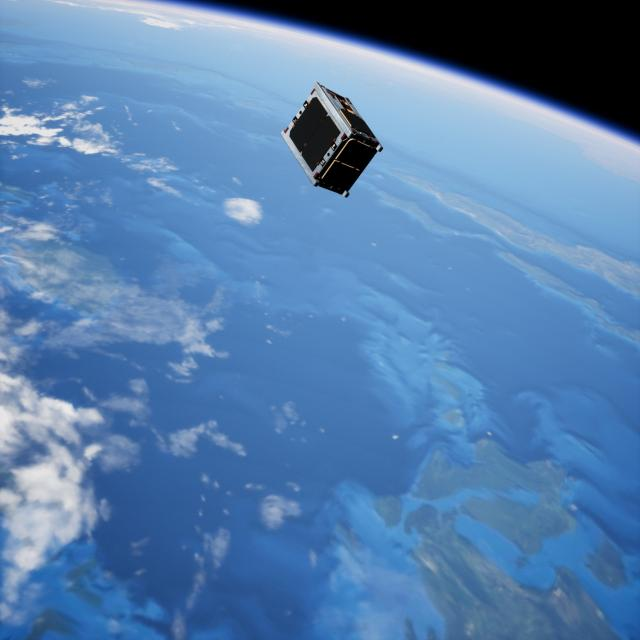satellite: (282, 86, 384, 195)
